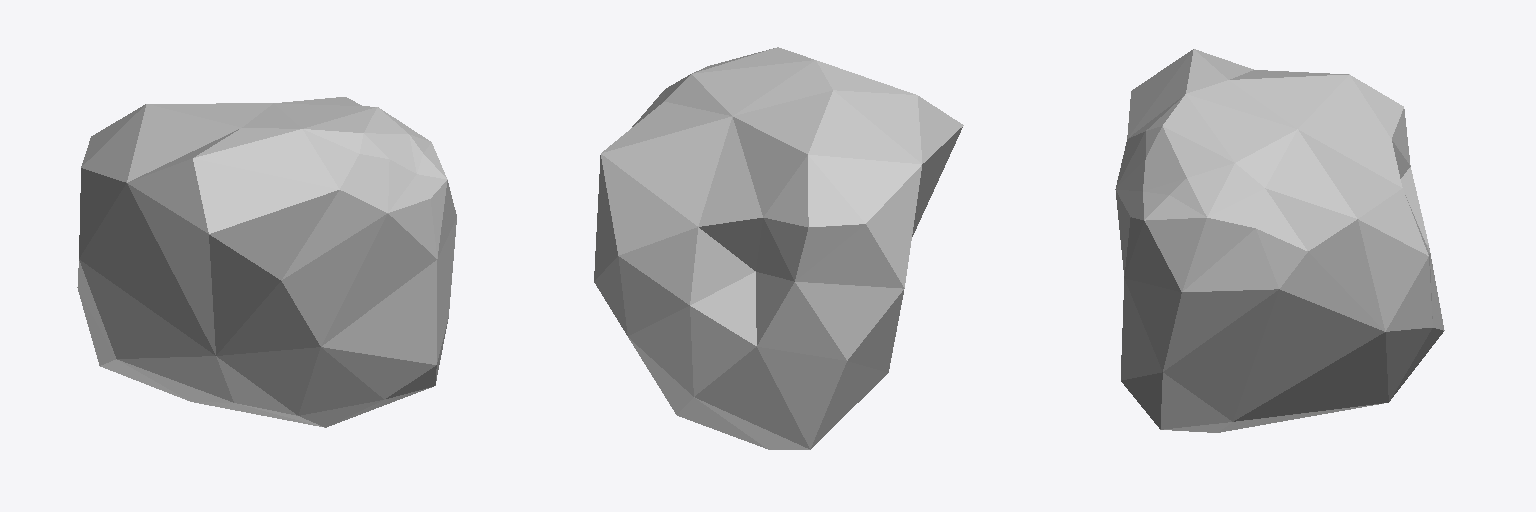
The model's file is MeshFile.obj.
The picture shows the model from 3 angles: view 1: azimuth 30°, elevation 25°; view 2: azimuth 150°, elevation 25°; view 3: azimuth 270°, elevation 25°; orthographic projection.
Size of the model in its own units: 1.35 by 1.33 by 1.23.